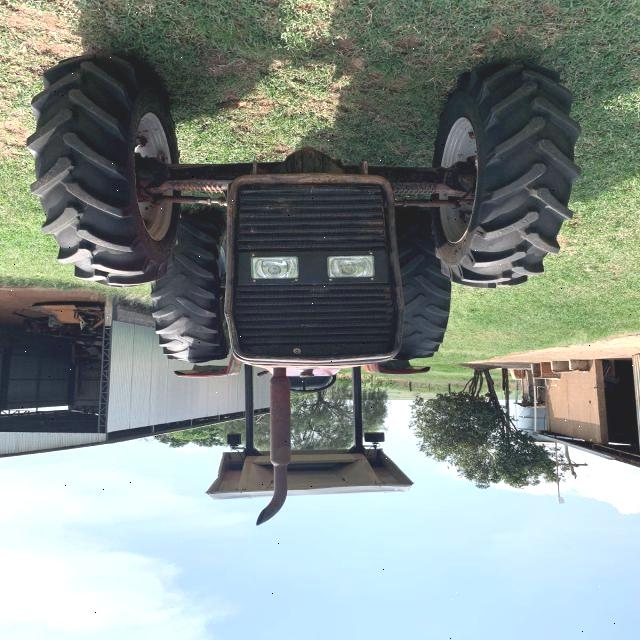Tratores - v5 YOLO V8L 2024-11-13: (32, 47, 581, 530)
